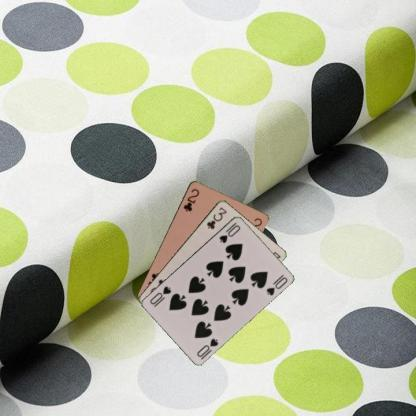10s: (217, 220, 242, 244), (194, 336, 220, 358)
2c: (181, 186, 200, 213)
3c: (204, 204, 228, 230)
